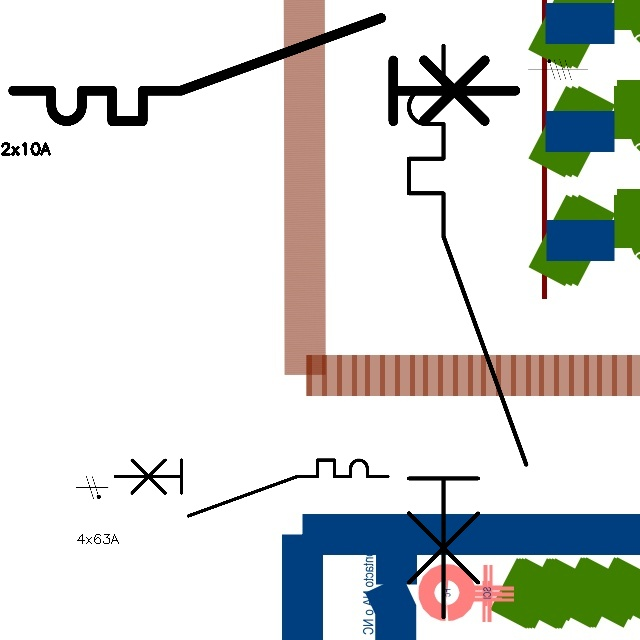interruptor_termomagnetico: (394, 31, 541, 631), (0, 5, 528, 134), (108, 453, 395, 523)
